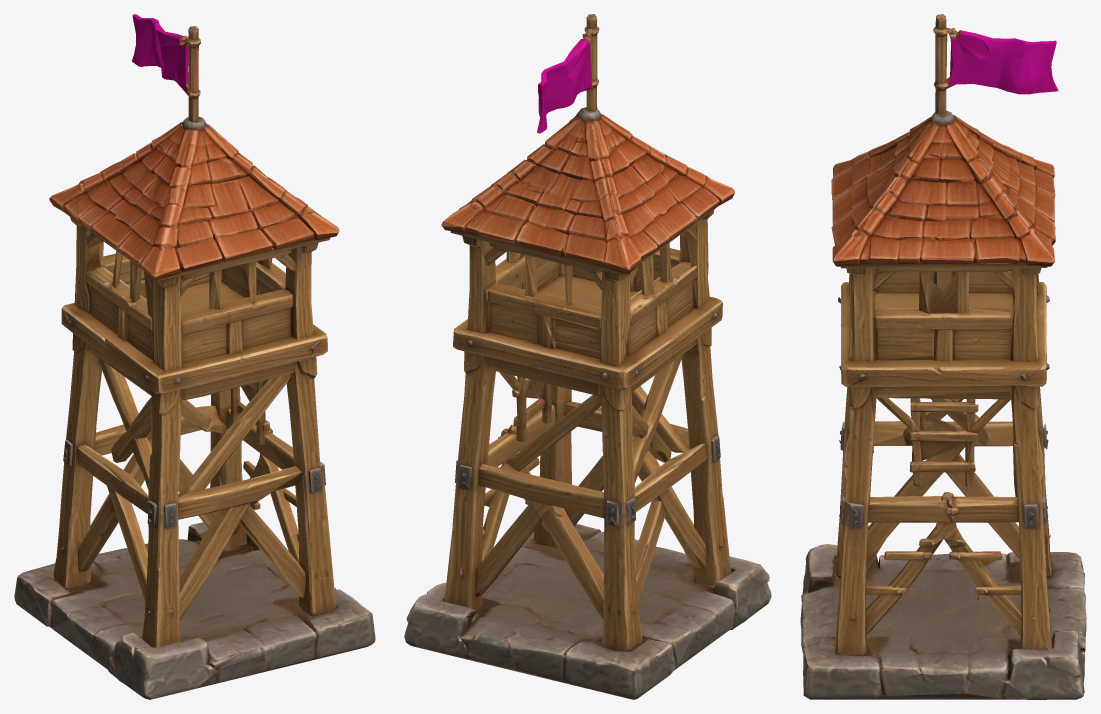
Rendered from tower.glb.
3 renders of one model, left to right at view 1: azimuth 30°, elevation 25°; view 2: azimuth 150°, elevation 25°; view 3: azimuth 270°, elevation 25°, orthographic. The views are drawn at different scales.
Parts seen in each view (by area): view 1: Mesh_0; view 2: Mesh_0; view 3: Mesh_0.
Boxes of the visible parts, bbox=[...] form: Mesh_0: bbox=[14, 14, 375, 699]; Mesh_0: bbox=[404, 14, 771, 699]; Mesh_0: bbox=[800, 14, 1086, 699].
Size of the model in its own units: 0.7713 by 1.9 by 0.7848.
Materials: 1 (1 with a texture image).
